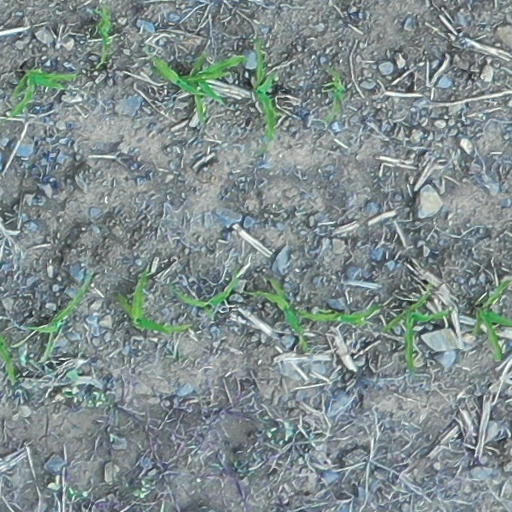planta: (22, 274, 94, 365), (379, 288, 453, 369), (113, 267, 194, 336), (242, 275, 310, 348), (6, 64, 82, 120), (148, 53, 235, 99), (249, 36, 281, 142), (172, 266, 242, 313), (193, 51, 253, 104), (293, 300, 383, 329), (184, 48, 212, 125)
